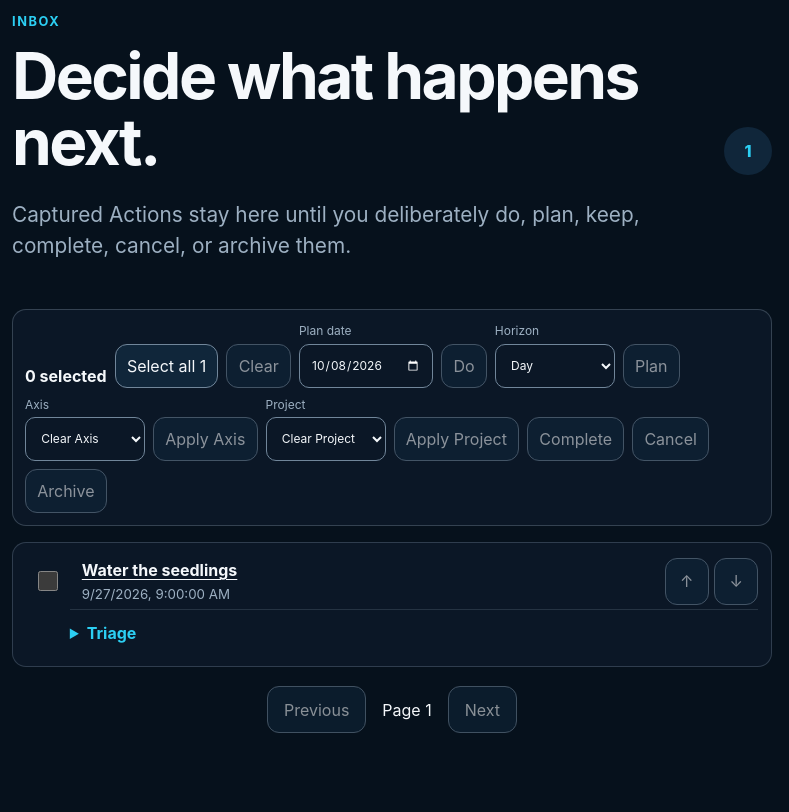
it: alignment Inbox Plan with a Milestone › hides the Milestone choice when there are no active Milestones
What coordinates should you click on to do the following:
click the heading "Triage"
I would click on:
 (112, 632)
Its box is [87,622,136,642].
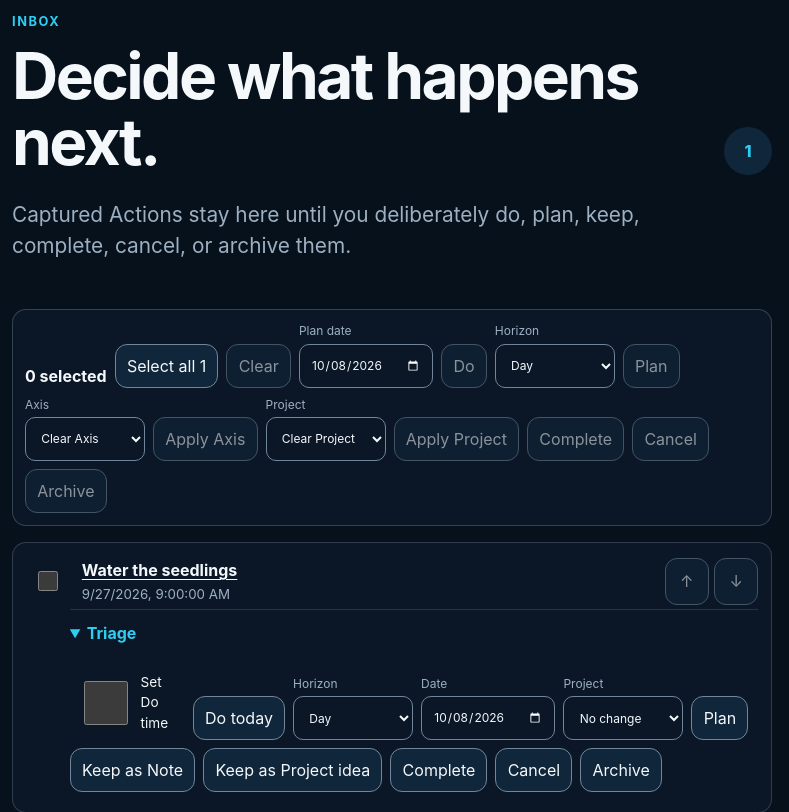
Expected: the 2nd dropdown labelled "Project" is shown, [564,696,684,740]
